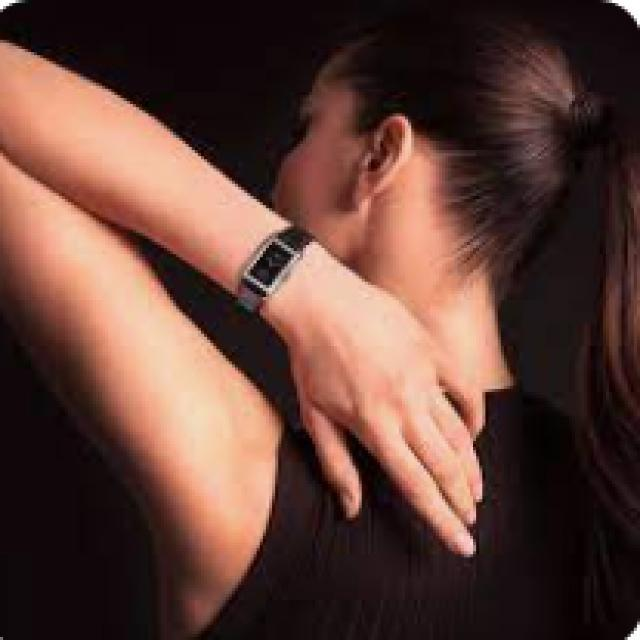Watch: (225, 219, 314, 318)
